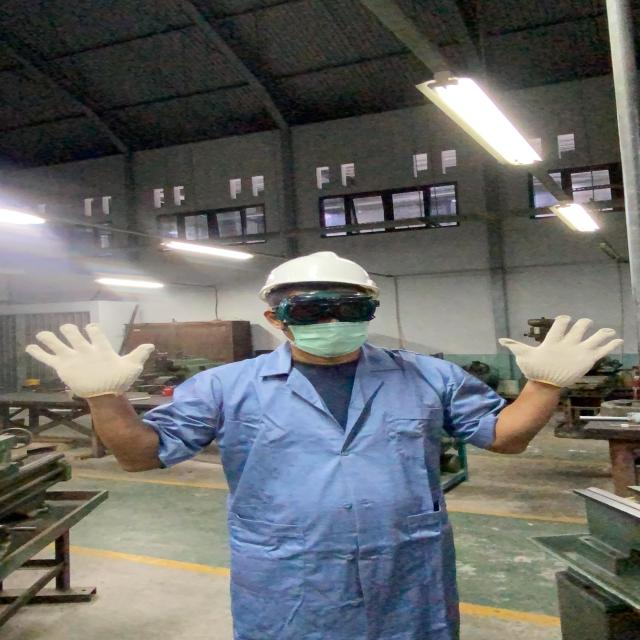face_mask: (272, 290, 382, 359)
glasses: (263, 288, 384, 326)
hand_glove: (19, 321, 165, 404), (493, 311, 629, 392)
head_helmet: (257, 248, 388, 295)
person: (21, 247, 625, 640)
